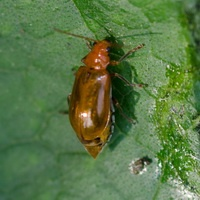insect: (54, 28, 143, 157)
